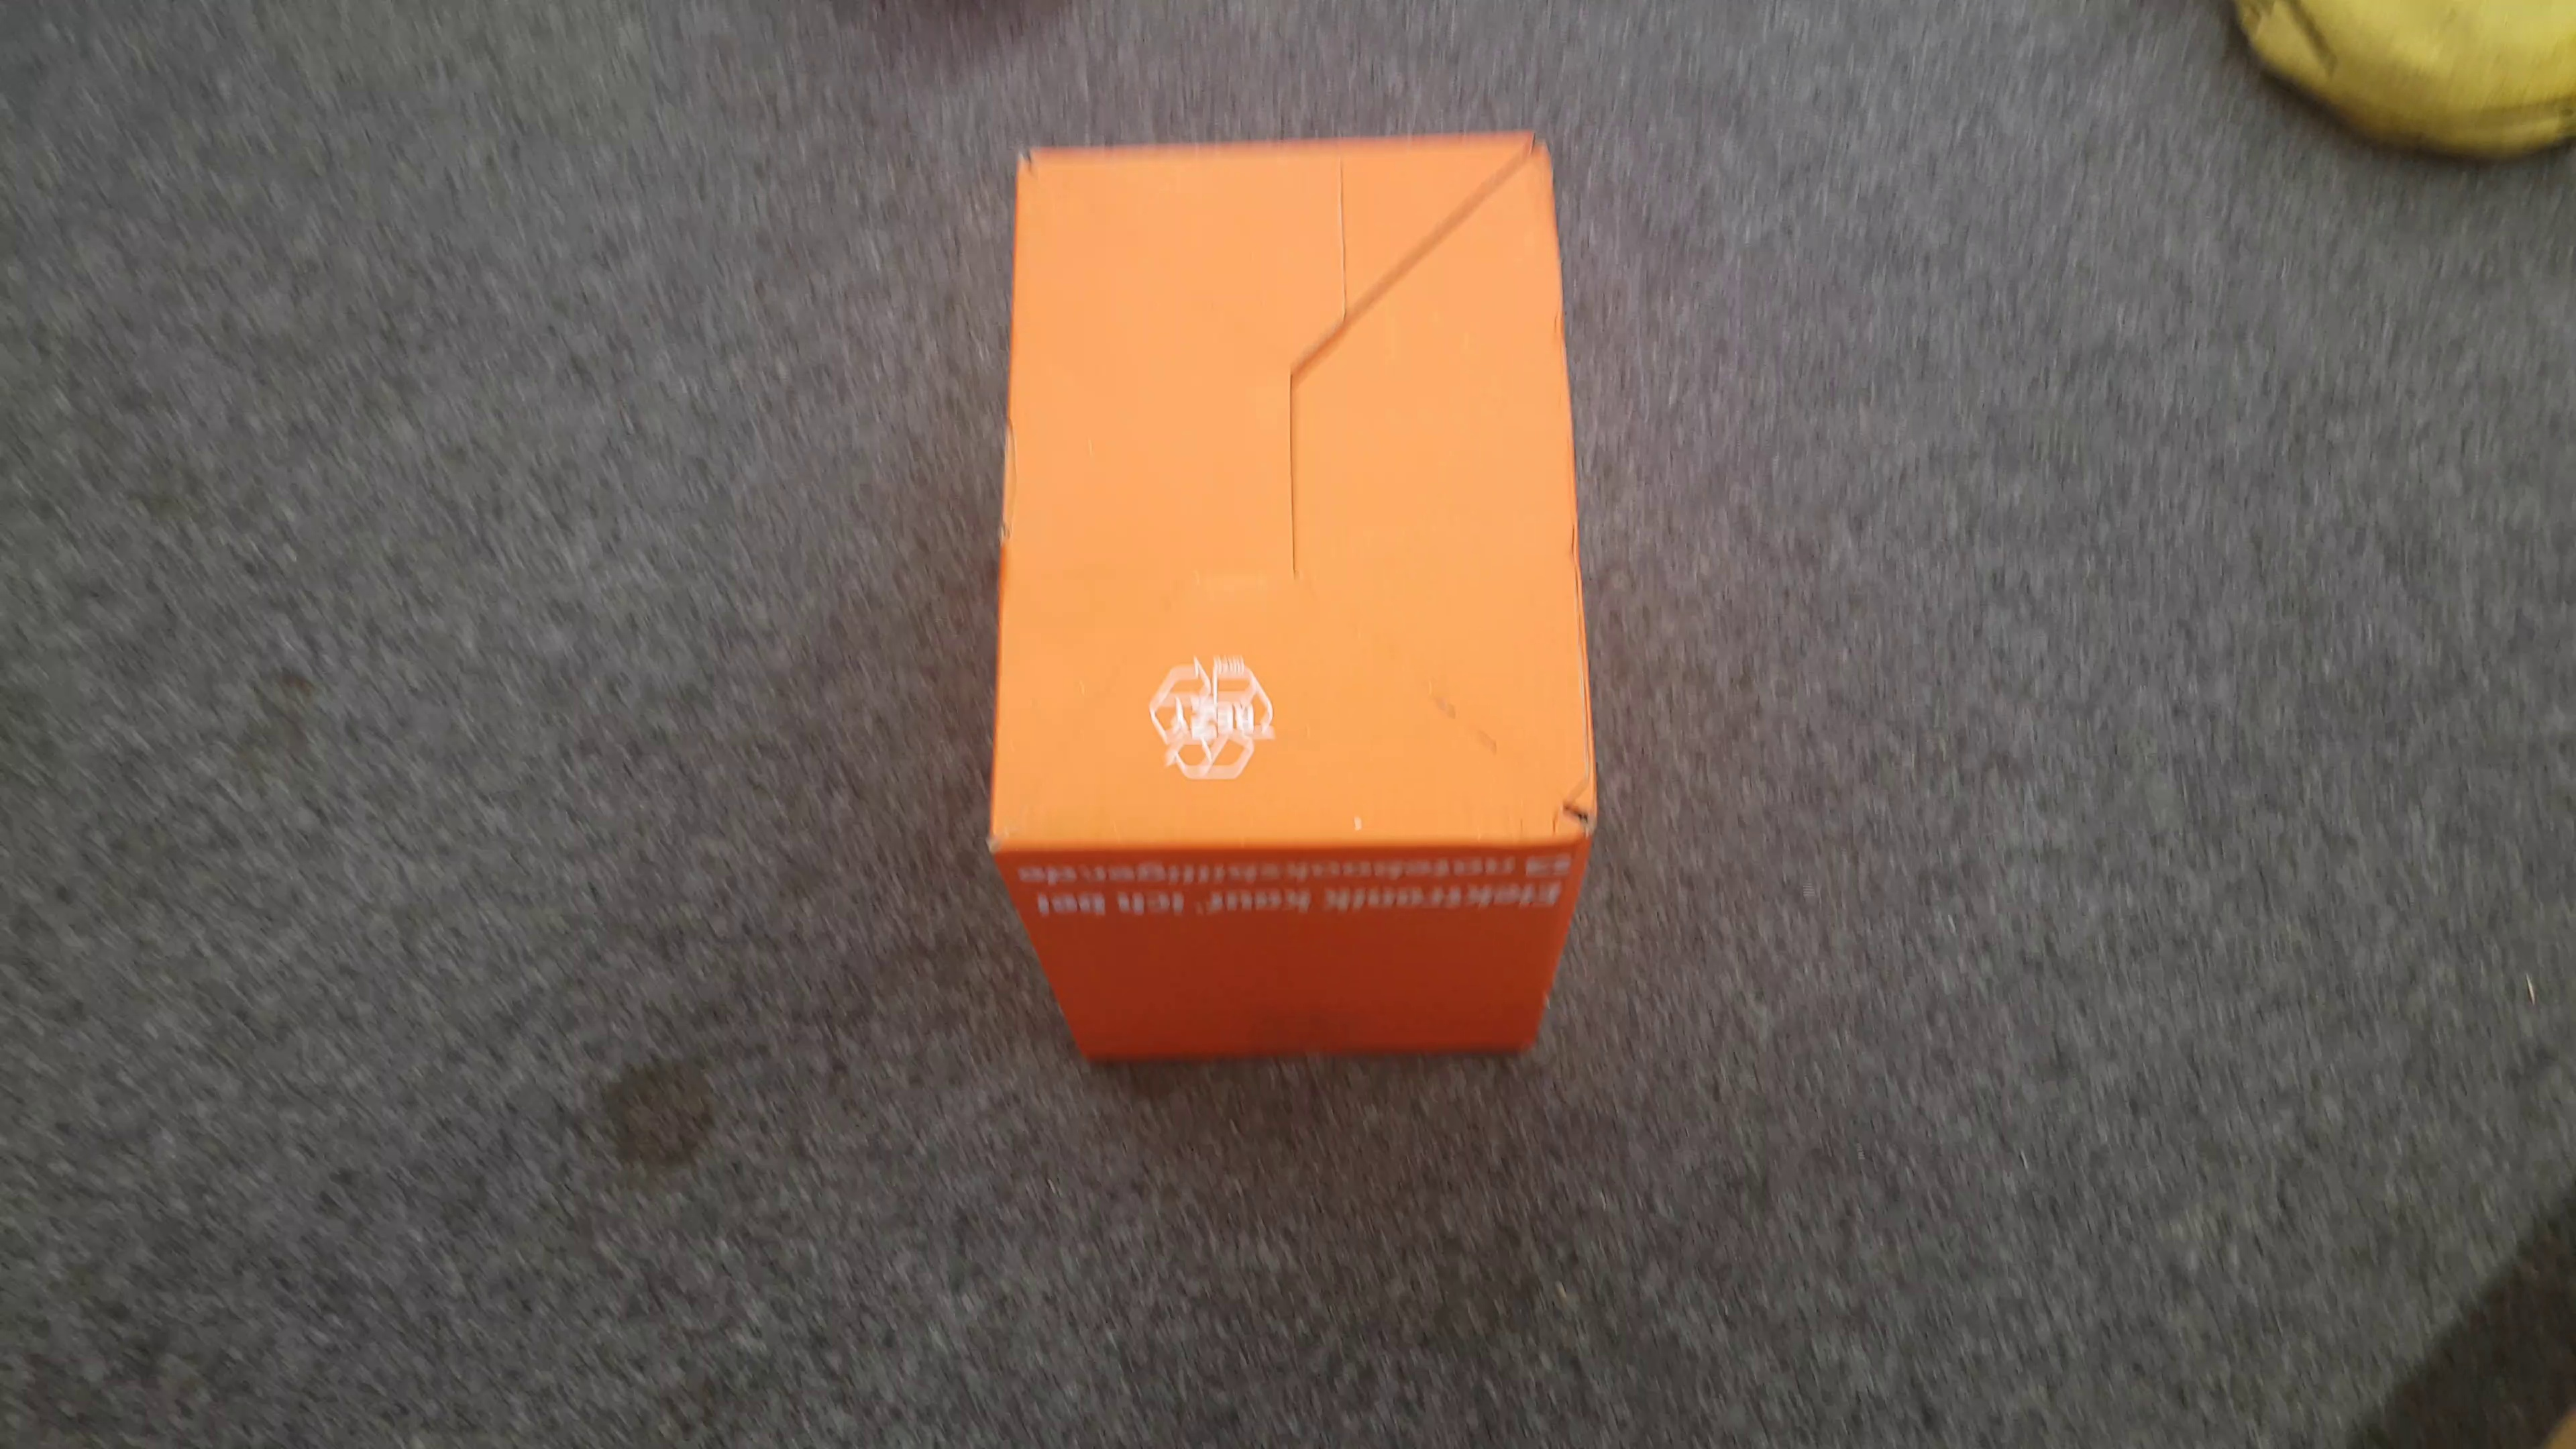grasp: (2219, 4, 2576, 161)
push: (985, 134, 1610, 1067)
